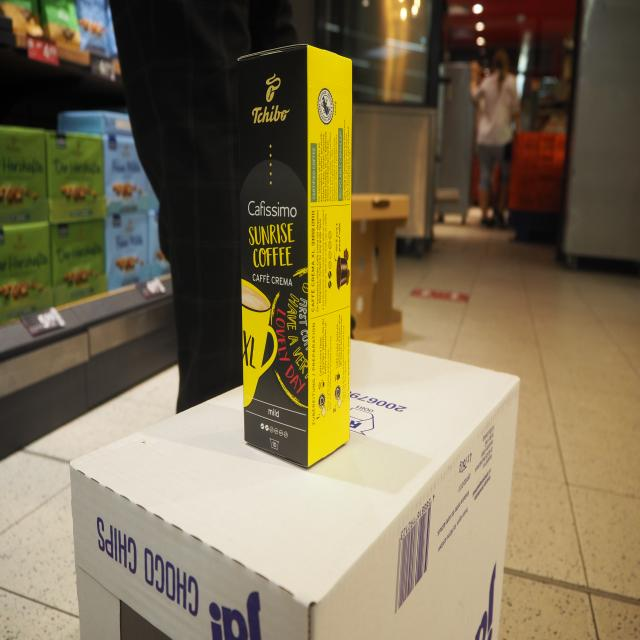Simo Sunrise: (238, 41, 309, 472)
